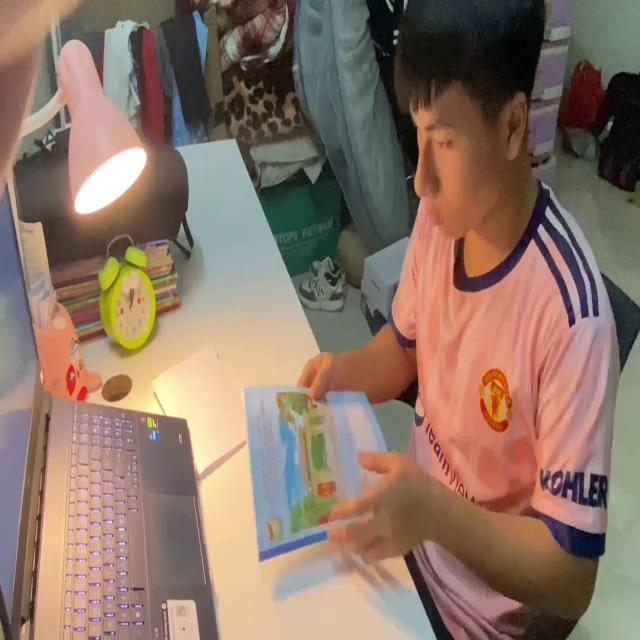book: (241, 376, 401, 561)
laptop: (0, 179, 220, 640)
student: (299, 6, 620, 640)
